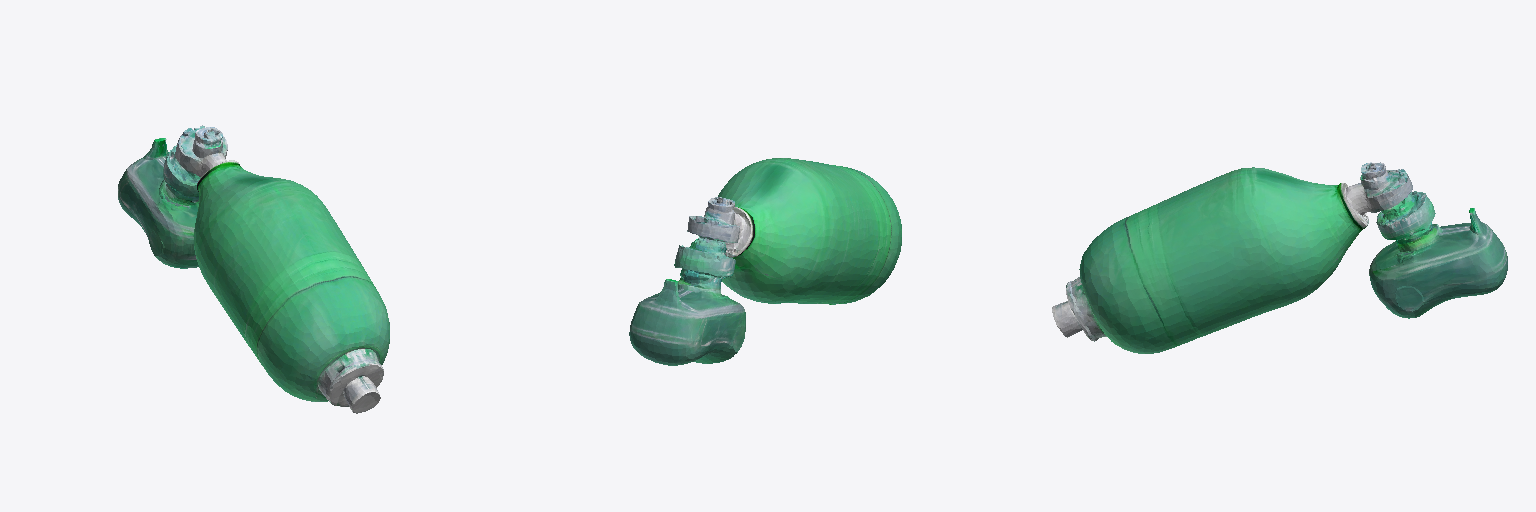
The picture shows the model from 3 angles: view 1: azimuth 30°, elevation 25°; view 2: azimuth 150°, elevation 25°; view 3: azimuth 270°, elevation 25°; orthographic projection.
Visible parts, largest first — view 1: Bag_valve_mask_[number redacted]_texture; view 2: Bag_valve_mask_[number redacted]_texture; view 3: Bag_valve_mask_[number redacted]_texture.
Boxes of the visible parts, box(x1,y1,x2,y2) form: Bag_valve_mask_[number redacted]_texture: box(118, 125, 389, 413); Bag_valve_mask_[number redacted]_texture: box(629, 158, 901, 365); Bag_valve_mask_[number redacted]_texture: box(1052, 162, 1507, 353).
Size of the model in its own units: 0.6084 by 0.8883 by 2.
1 materials, 1 textured.